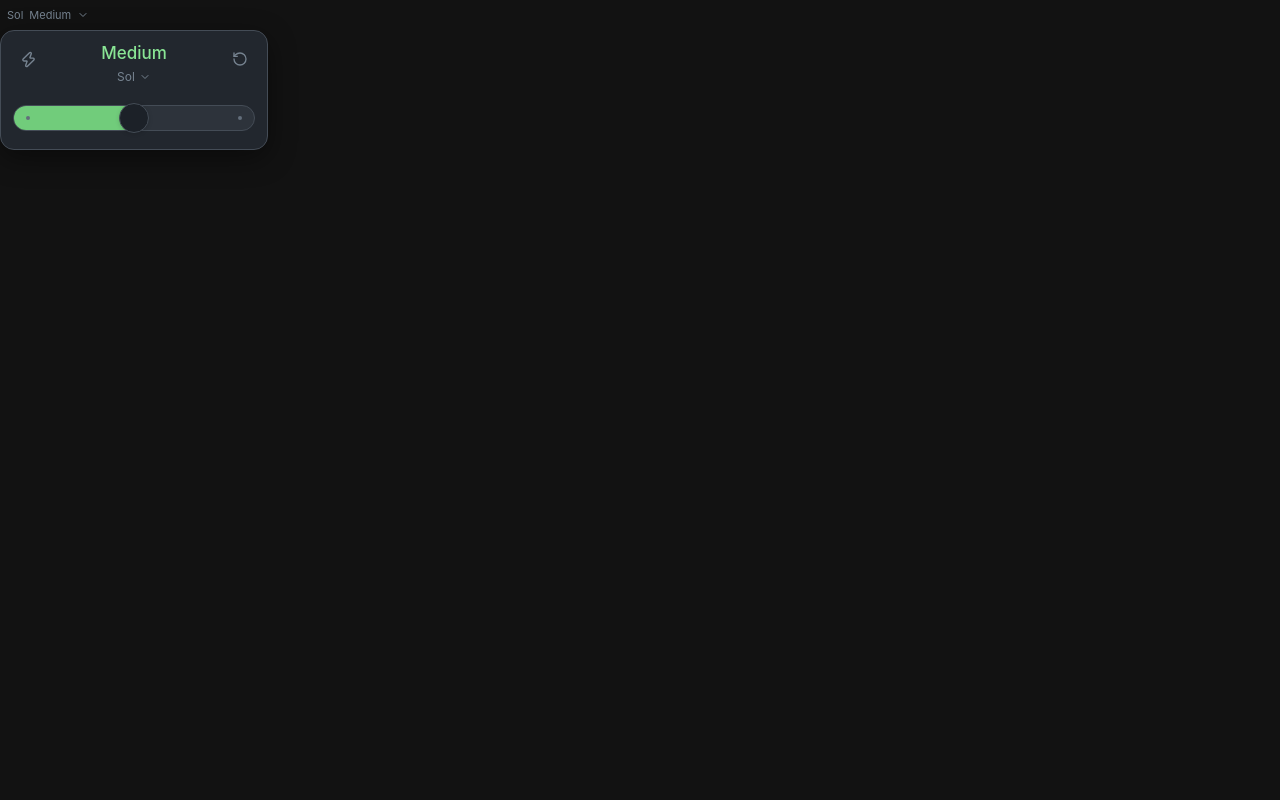
renders a keyboard-navigable HTML model list and preserves effort capabilities
This screenshot has width=1280, height=800.
Later steps or results of the test are not shown.
Click the button with aria-label "Choose model".
click(134, 76)  # box [114, 66, 154, 87]
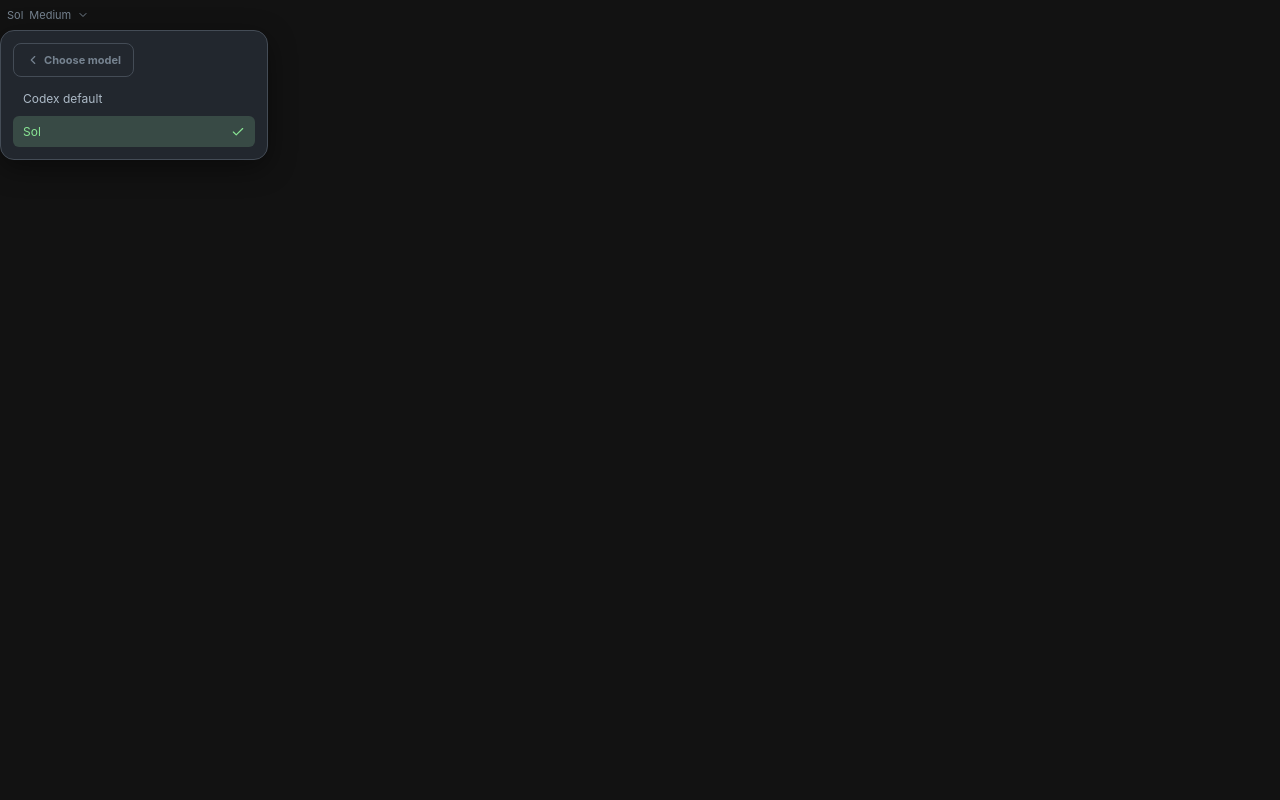
Now the number of options is 2, box [13, 83, 255, 114]; [13, 116, 255, 147]
